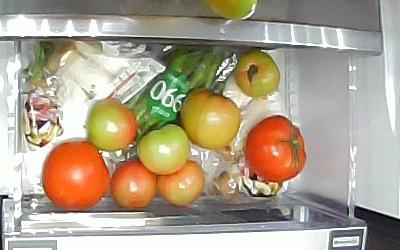tomato: (43, 138, 110, 211), (245, 115, 310, 184), (179, 88, 241, 151), (135, 123, 191, 175), (85, 98, 137, 153), (111, 160, 158, 210), (157, 160, 205, 207), (235, 50, 281, 98)
